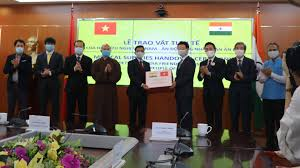mask: (232, 43, 247, 61), (73, 40, 87, 59), (266, 40, 280, 59), (100, 42, 114, 58), (177, 41, 189, 59), (13, 39, 26, 55), (202, 42, 215, 58), (133, 46, 143, 63), (44, 39, 56, 53)
